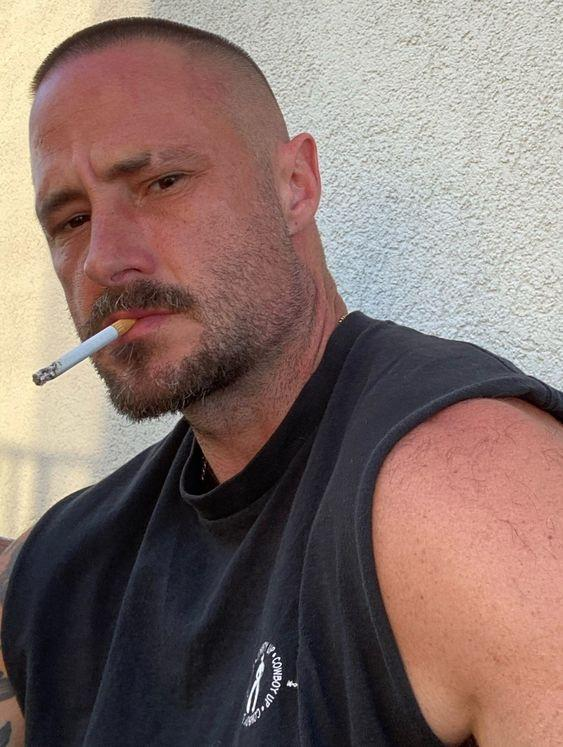cigarette: (32, 318, 137, 387)
